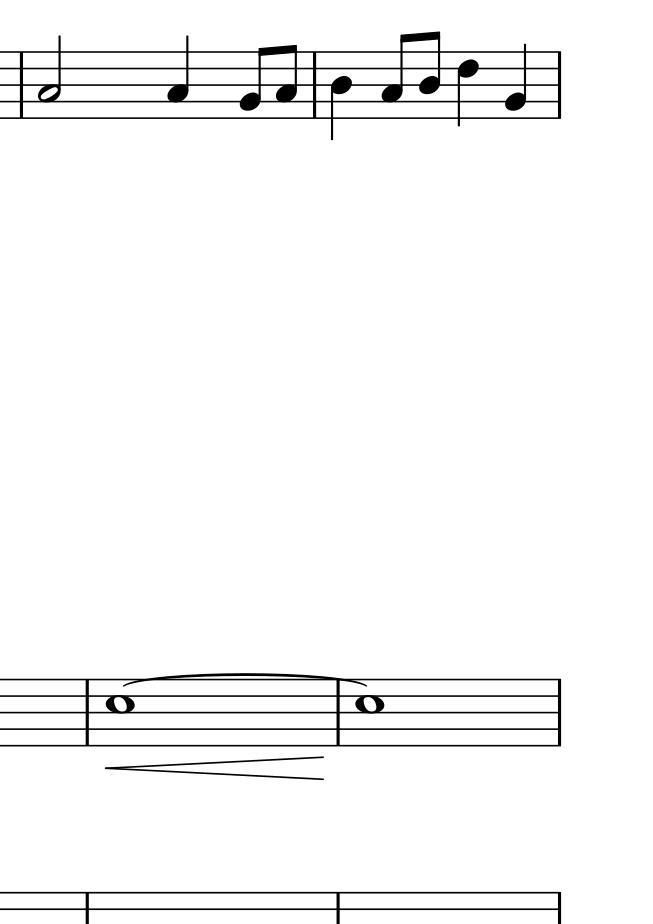1_5: (104, 678, 136, 747), (353, 680, 385, 747)
2_3: (37, 35, 63, 118)
4_2: (503, 42, 529, 120)
4_3: (166, 35, 190, 118)
4_4: (329, 50, 354, 142)
4_6: (456, 49, 480, 129)
8_2: (237, 46, 267, 120)
8_3: (379, 33, 412, 122), (274, 43, 299, 120)
8_4: (418, 30, 442, 120)
Crescendo_hairpin: (105, 754, 326, 782)
Single_barline: (79, 679, 95, 747), (551, 679, 567, 746), (551, 52, 567, 118), (307, 51, 323, 116), (14, 51, 28, 117), (330, 690, 346, 746)
Slur: (120, 669, 367, 690)
